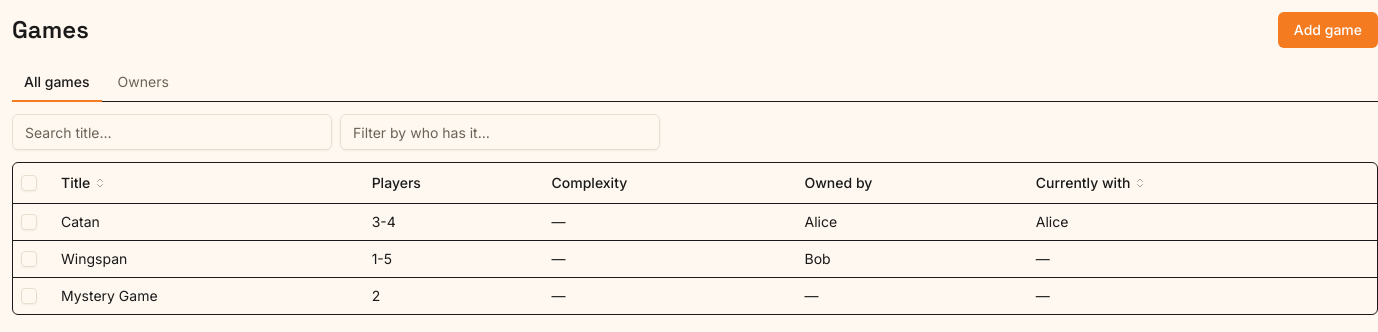
Test case: GamesList › switching tabs updates the URL
This screenshot has width=1378, height=332.
What coordinates should you click on to do the following:
click the tab "Owners"
I would click on:
 (143, 83)
Its box is [106, 64, 181, 102].
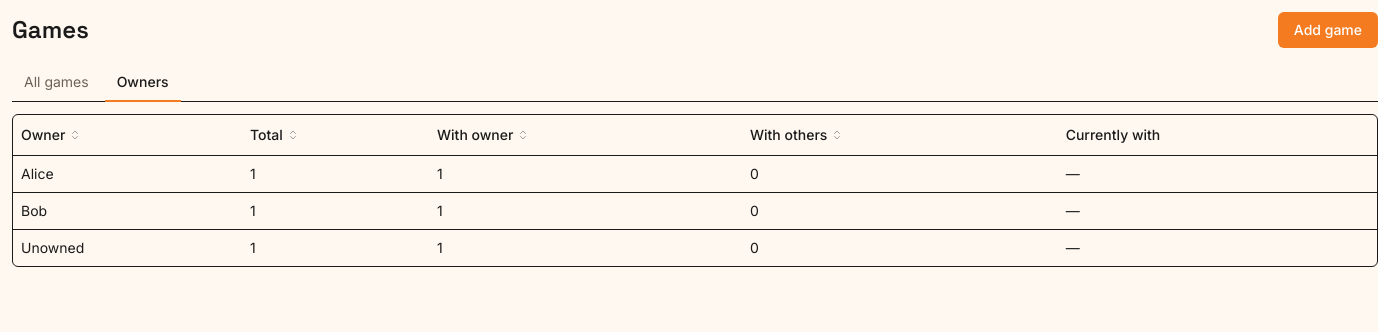
Expected: the text "Catan" is gone
